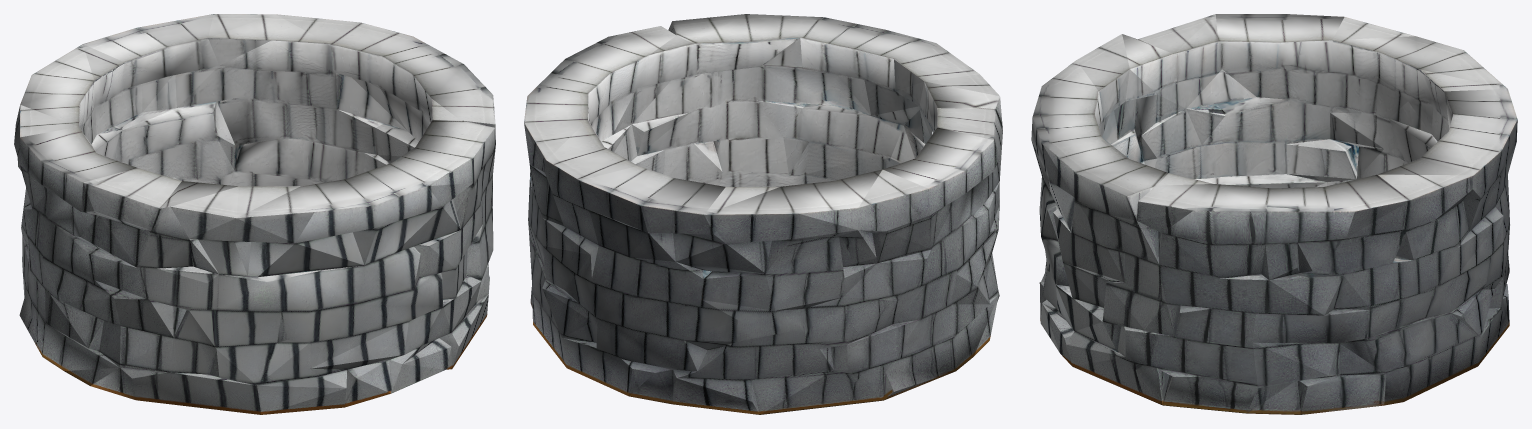
Rendered from ENV_Wall_Curve.fbx.
3 views of the same model, side by side, from view 1: azimuth 30°, elevation 25°; view 2: azimuth 150°, elevation 25°; view 3: azimuth 270°, elevation 25° (orthographic).
Visible parts, largest first — view 1: Mesh_0; view 2: Mesh_0; view 3: Mesh_0.
Boxes of the visible parts, x1,y1,x2,y2 form: Mesh_0: (14, 14, 495, 414); Mesh_0: (524, 14, 1002, 414); Mesh_0: (1031, 14, 1517, 414).
Bounding box in the file's own units: 186 × 89.66 × 190.
Materials: 1 (1 with a texture image).
